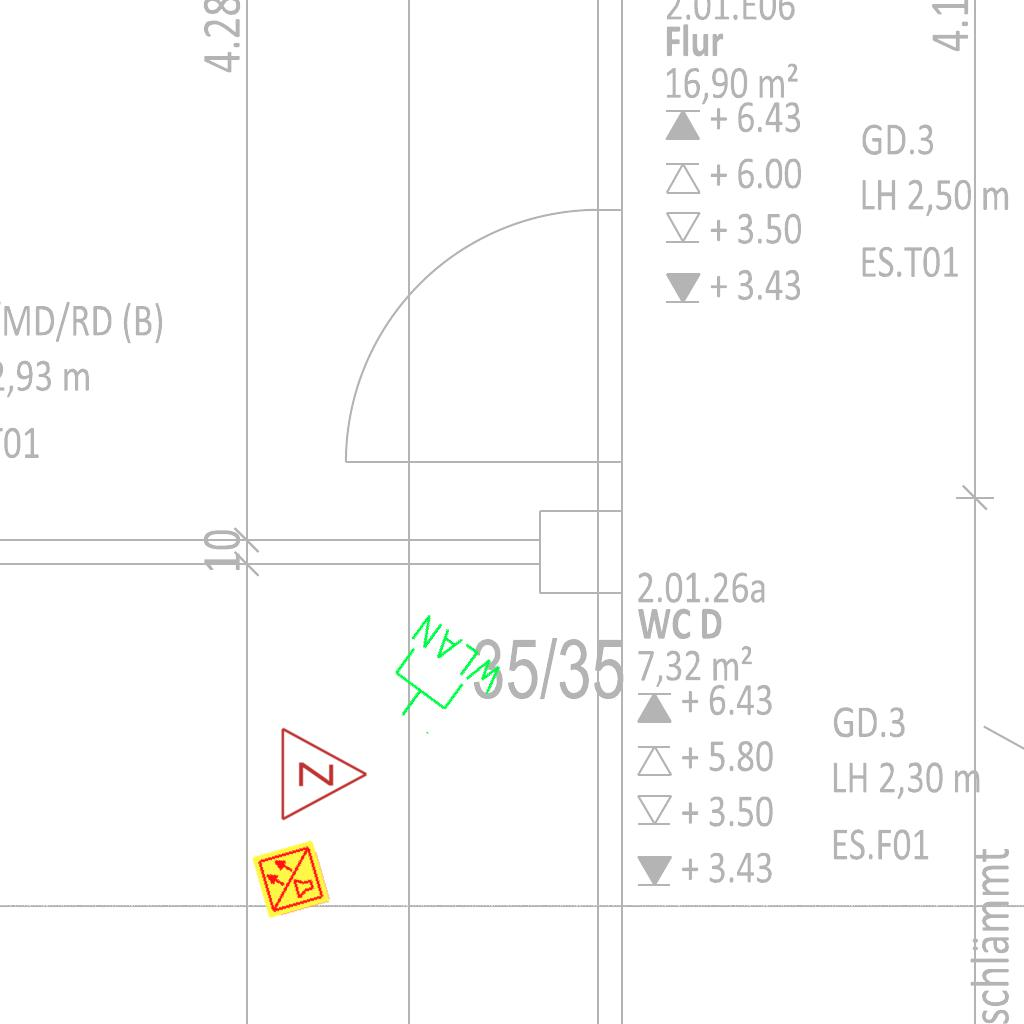OKW_Multisensormelder_(Kombination_optischer_Rauch-Kahlenmonoxid_Waerme-Melder): (250, 838, 332, 920)
WLAN: (365, 608, 513, 755)
Zimmersignalleuchte: (274, 724, 374, 822)
